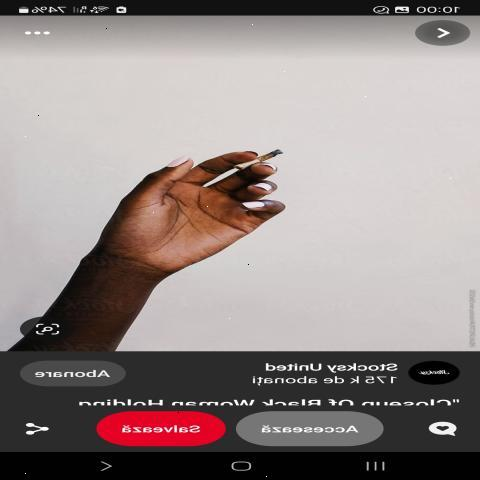Hands: (43, 88, 335, 310)
